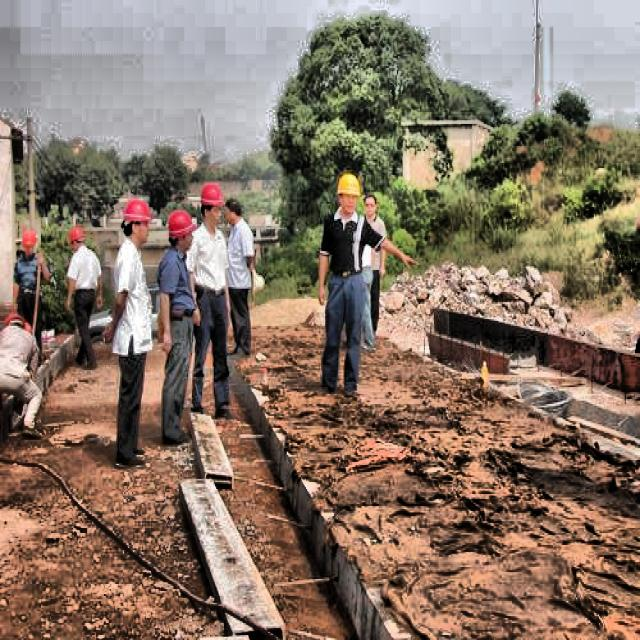helmet: (120, 197, 156, 246), (196, 178, 224, 226), (167, 207, 197, 251), (338, 172, 362, 218), (20, 226, 41, 263), (65, 220, 87, 254), (5, 308, 28, 334)
